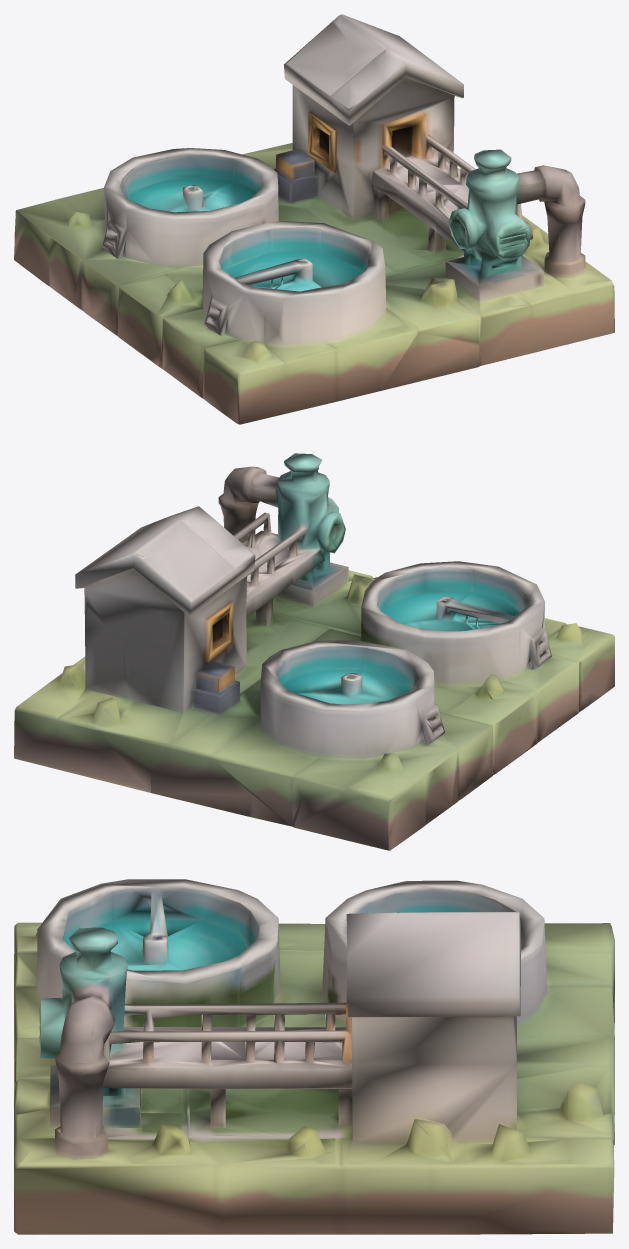
Rendered from aritma.glb.
3 views of the same model, one above another, from view 1: azimuth 30°, elevation 25°; view 2: azimuth 150°, elevation 25°; view 3: azimuth 270°, elevation 25° (orthographic). The views are drawn at different scales.
Visible parts, largest first — view 1: node_0; view 2: node_0; view 3: node_0.
Boxes of the visible parts, x1=… form: node_0: x1=14, y1=14, x2=614, y2=424; node_0: x1=14, y1=453, x2=614, y2=850; node_0: x1=14, y1=879, x2=614, y2=1234.
Size of the model in its own units: 0.7893 by 0.404 by 0.8192.
1 material, 1 textured.
